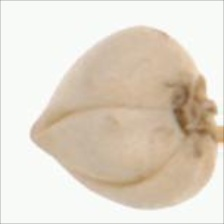L5: (30, 103, 190, 188), (167, 65, 224, 147)
L6: (29, 23, 224, 211)
